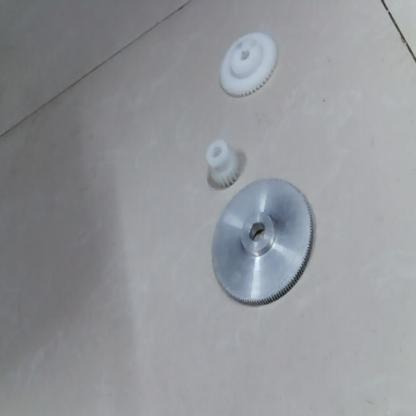FOD: (206, 174, 318, 310), (216, 30, 283, 102), (206, 138, 240, 195)
